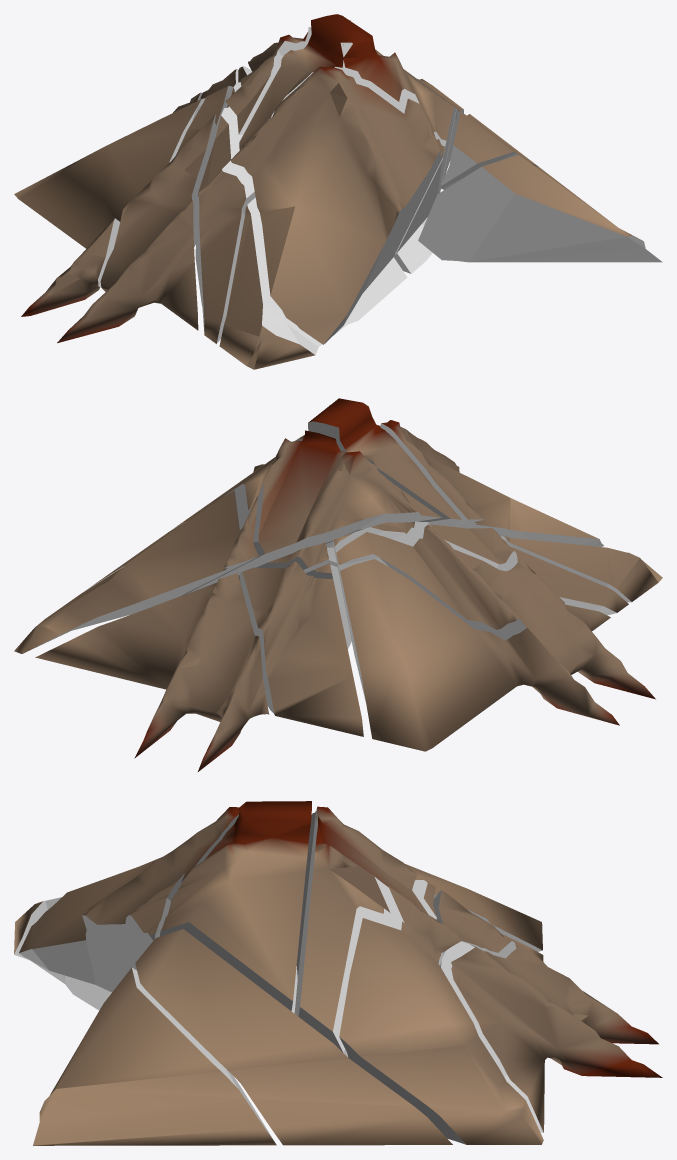
The model's file is Aztec Pyramids.glb.
The picture shows the model from 3 angles, top to bottom: view 1: azimuth 30°, elevation 25°; view 2: azimuth 150°, elevation 25°; view 3: azimuth 270°, elevation 25°; orthographic projection. The views are drawn at different scales.
Parts seen in each view (by area): view 1: Root.001, Root.007, Root, Root.008, Root.009, Root.004, Root.012, Root.005, Root.015, Root.014; view 2: Root.008, Root.002, Root, Root.005, Root.011, Root.013, Root.001, Root.012, Root.009, Root.004, Root.014, Root.006; view 3: Root.015, Root.013, Root.007, Root.009, Root.002, Root.005, Root.001, Root.008, Root.011, Root.004, Root.014.
Boxes of the visible parts, bbox=[...] form: Root.001: bbox=[231, 66, 444, 344]; Root.007: bbox=[418, 155, 662, 262]; Root: bbox=[57, 86, 232, 343]; Root.008: bbox=[14, 98, 205, 316]; Root.009: bbox=[239, 14, 456, 254]; Root.004: bbox=[219, 197, 407, 369]; Root.012: bbox=[195, 82, 255, 343]; Root.005: bbox=[226, 20, 457, 192]; Root.015: bbox=[440, 113, 539, 189]; Root.014: bbox=[238, 66, 432, 273]; Root.008: bbox=[340, 559, 619, 751]; Root.002: bbox=[35, 573, 269, 771]; Root: bbox=[336, 524, 655, 699]; Root.005: bbox=[180, 430, 441, 596]; Root.011: bbox=[238, 561, 363, 736]; Root.013: bbox=[14, 490, 258, 653]; Root.001: bbox=[378, 420, 603, 546]; Root.012: bbox=[333, 521, 628, 670]; Root.009: bbox=[221, 398, 461, 547]; Root.004: bbox=[500, 536, 662, 602]; Root.014: bbox=[238, 542, 337, 576]; Root.006: bbox=[305, 563, 351, 648]; Root.015: bbox=[135, 929, 452, 1145]; Root.013: bbox=[339, 886, 543, 1144]; Root.007: bbox=[33, 967, 276, 1145]; Root.009: bbox=[159, 801, 311, 1010]; Root.002: bbox=[440, 941, 662, 1132]; Root.005: bbox=[294, 806, 428, 1057]; Root.001: bbox=[19, 807, 239, 992]; Root.008: bbox=[405, 864, 542, 951]; Root.011: bbox=[433, 890, 543, 965]; Root.004: bbox=[14, 897, 111, 1010]; Root.014: bbox=[291, 880, 436, 1013].
Size of the model in its own units: 23.49 by 10.12 by 23.46.
